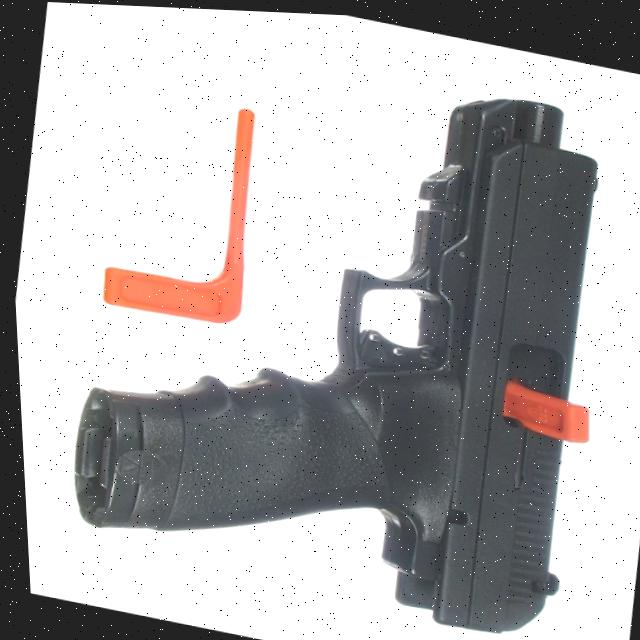pistol: (38, 13, 640, 640)
